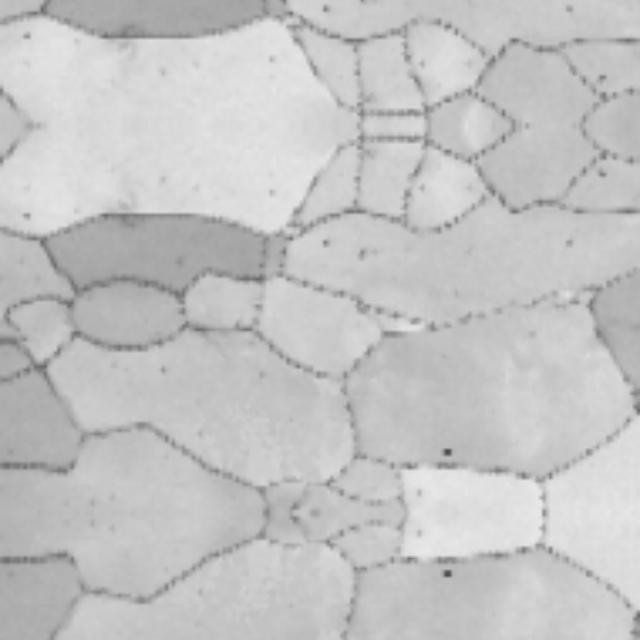good_void: (355, 242, 379, 264), (316, 236, 333, 253), (414, 180, 430, 198), (316, 1, 333, 17), (414, 56, 430, 73), (438, 447, 456, 462), (438, 566, 456, 581), (159, 359, 171, 380), (561, 237, 579, 251), (561, 2, 579, 16), (16, 210, 35, 223), (16, 30, 35, 43), (596, 166, 611, 182), (265, 187, 280, 202), (596, 72, 611, 87), (265, 52, 280, 66), (358, 0, 378, 8)
